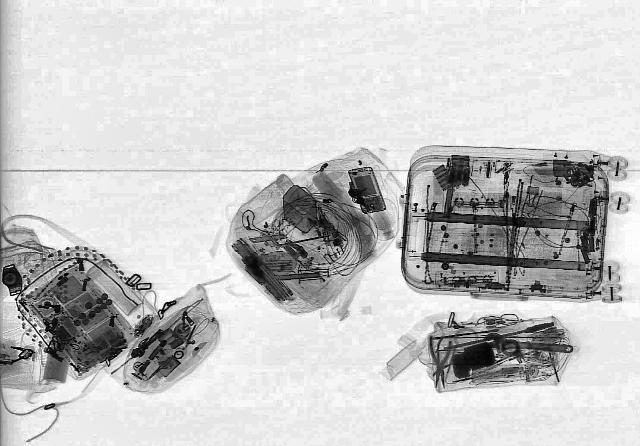Wrench: (479, 330, 579, 362)
